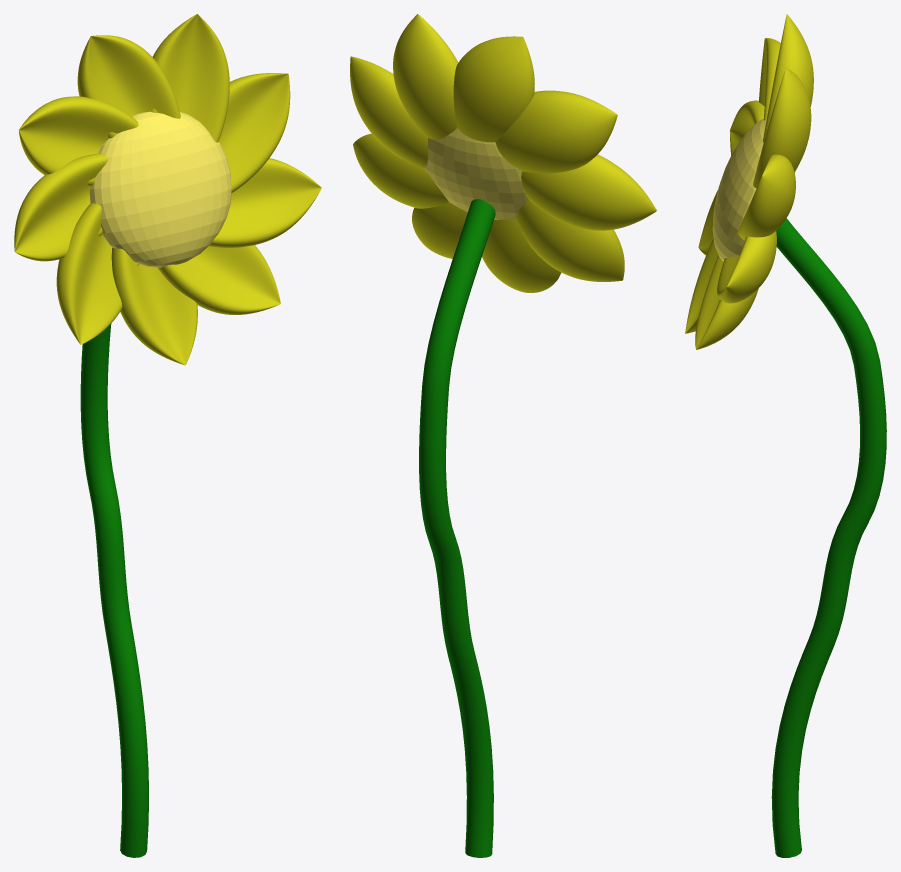
Rendered from SunFlower.fbx.
The picture shows the model from 3 angles, left to right: view 1: azimuth 30°, elevation 25°; view 2: azimuth 150°, elevation 25°; view 3: azimuth 270°, elevation 25°; orthographic projection.
Visible parts, largest first — view 1: BezierCurve; view 2: BezierCurve; view 3: BezierCurve.
Part boxes in pixels (bbox=[...]): BezierCurve: bbox=[14, 14, 321, 857]; BezierCurve: bbox=[350, 14, 656, 857]; BezierCurve: bbox=[685, 14, 886, 857].
Size of the model in its own units: 156 by 90.48 by 405.
